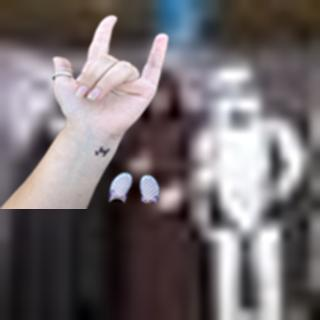ILY: (45, 11, 173, 142)
